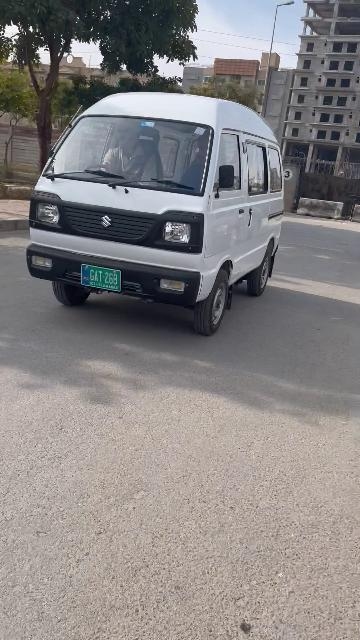plate: (81, 265, 121, 291)
